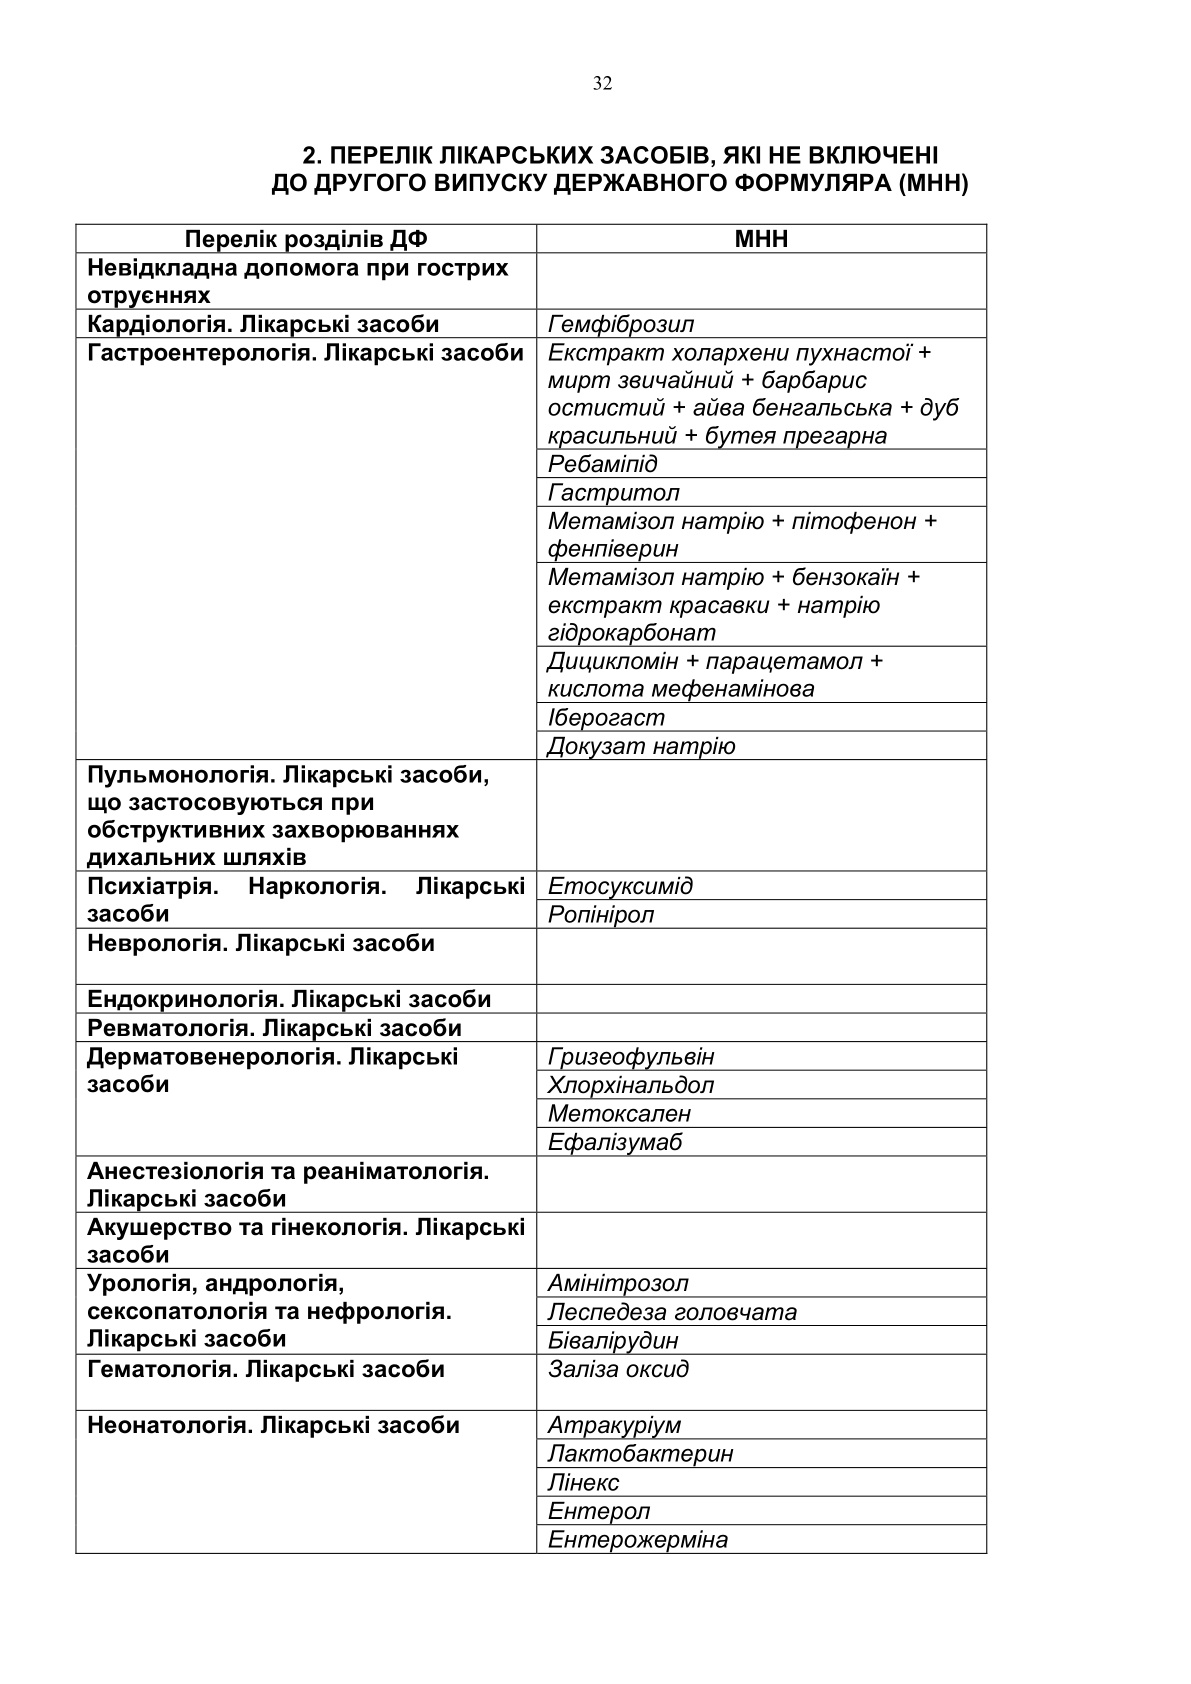merged_cells: (73, 222, 989, 1555)
